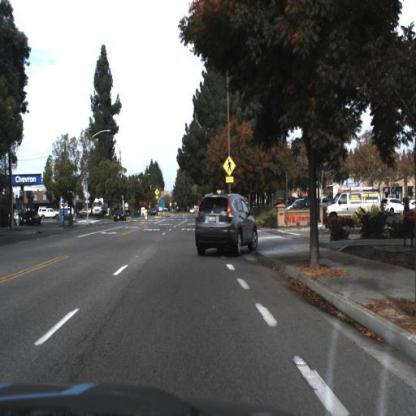car: (193, 194, 259, 259), (322, 189, 384, 231), (40, 202, 63, 223), (17, 211, 43, 227), (111, 209, 128, 225)
truck: (92, 194, 107, 219)
